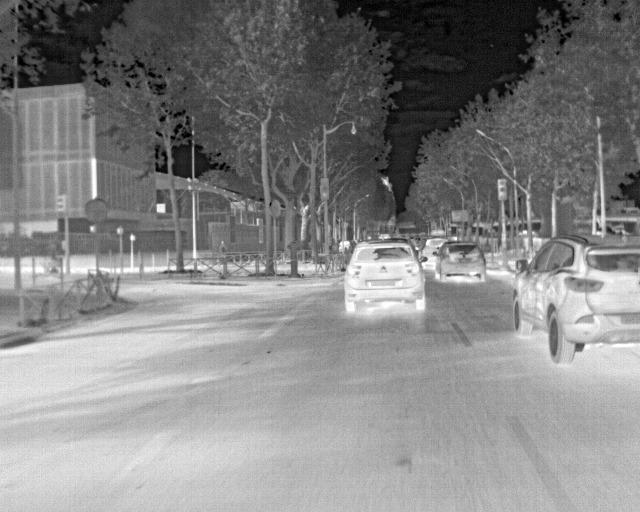car: (511, 233, 639, 365), (345, 238, 428, 312), (433, 241, 486, 282), (418, 237, 449, 270), (409, 234, 423, 250)
light: (497, 179, 507, 201), (320, 179, 329, 200), (56, 194, 65, 213)
sign: (84, 199, 108, 222), (269, 199, 281, 218), (452, 210, 469, 222)
